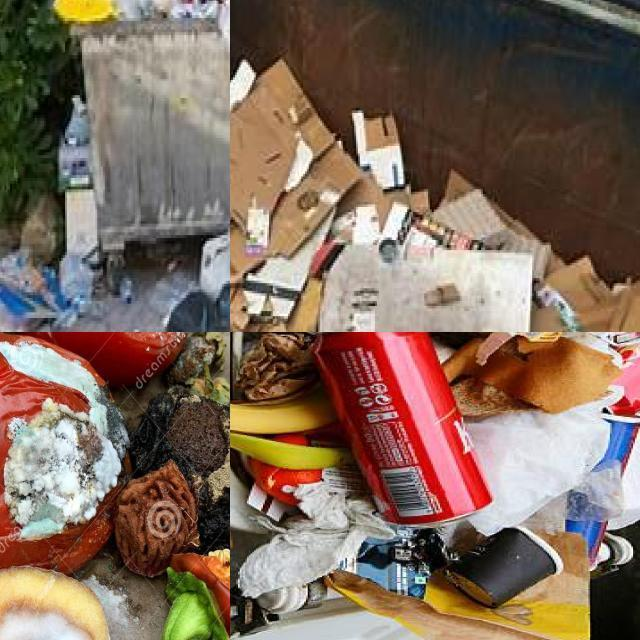Garbage: (230, 332, 640, 640), (230, 55, 640, 332), (0, 332, 230, 640), (49, 0, 230, 43)
Plastic_wraper: (326, 533, 589, 640)
can: (315, 332, 491, 527)
